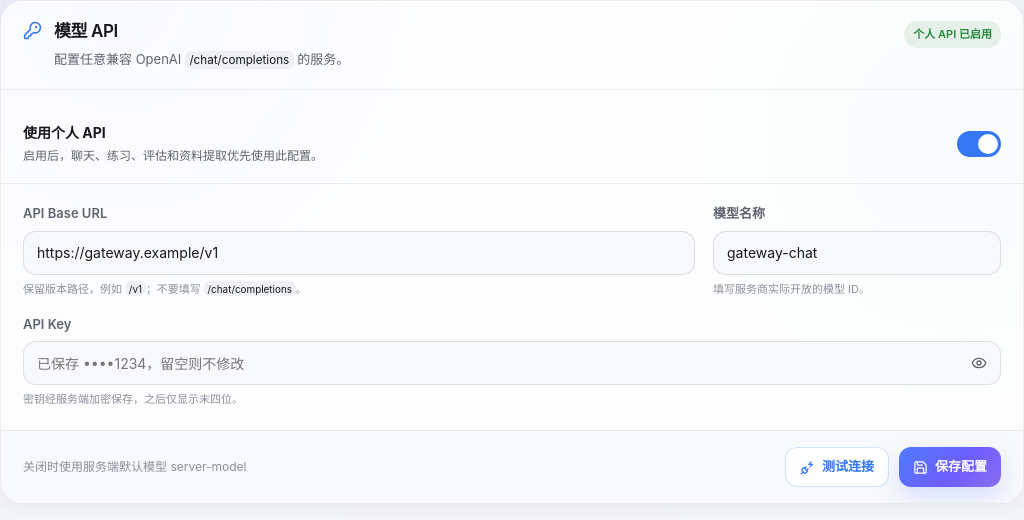
Test: OpenAIConfigSection › saves a new key and tests the current OpenAI-compatible candidate
The width and height of the screenshot is (1024, 520).
Replace the text in the field labelled "模型名称 填写服务商实际开放的模型 ID。" with "new-model" at coordinates (857, 253), box [713,231,1001,275]
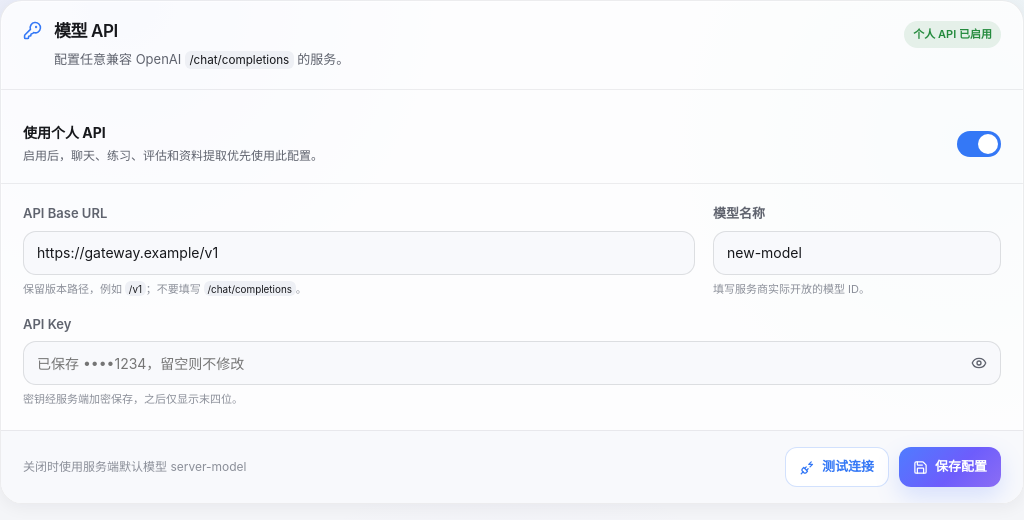
Type "sk-new-secret-9999" into the password field labelled "API Key 密钥经服务端加密保存，之后仅显示末四位。" at coordinates (512, 363), box [23,341,1001,385]
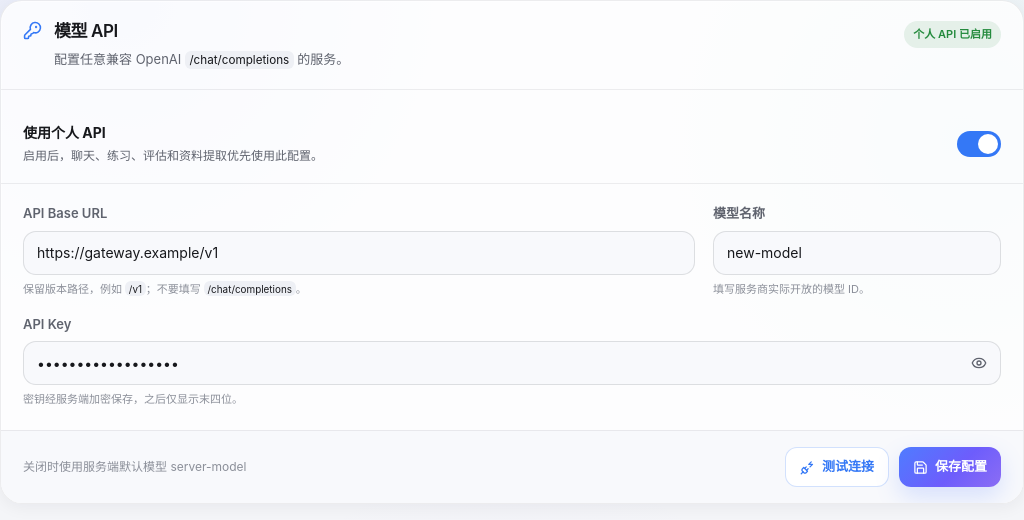
Submit the form
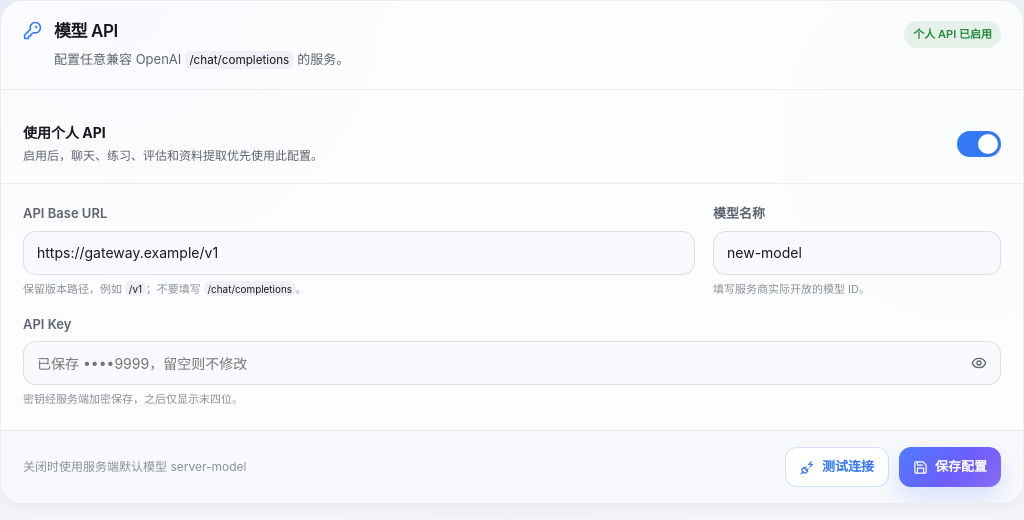
Click the button "测试连接" at coordinates (837, 467), box [785,447,889,487]
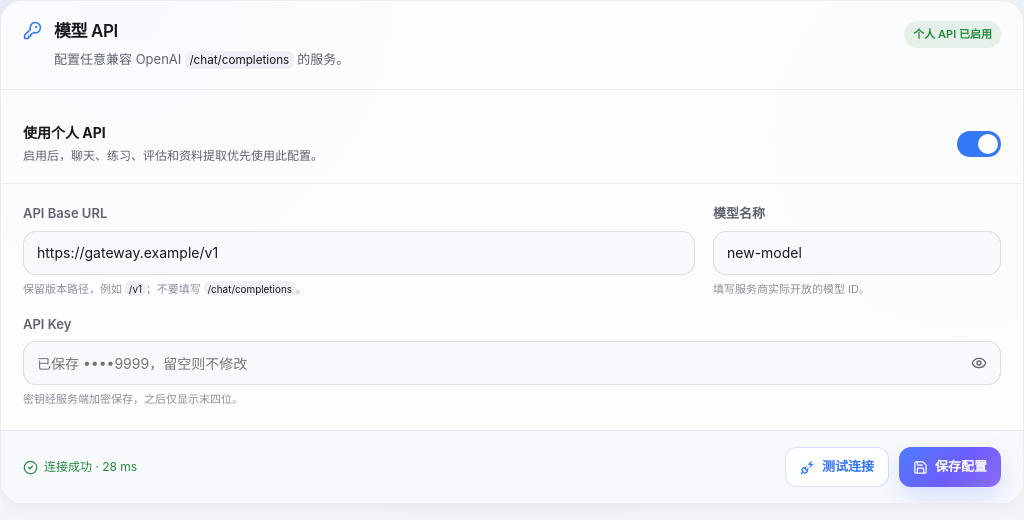
Expected: the text "连接成功 · 28 ms" is shown, [23,459,137,475]
